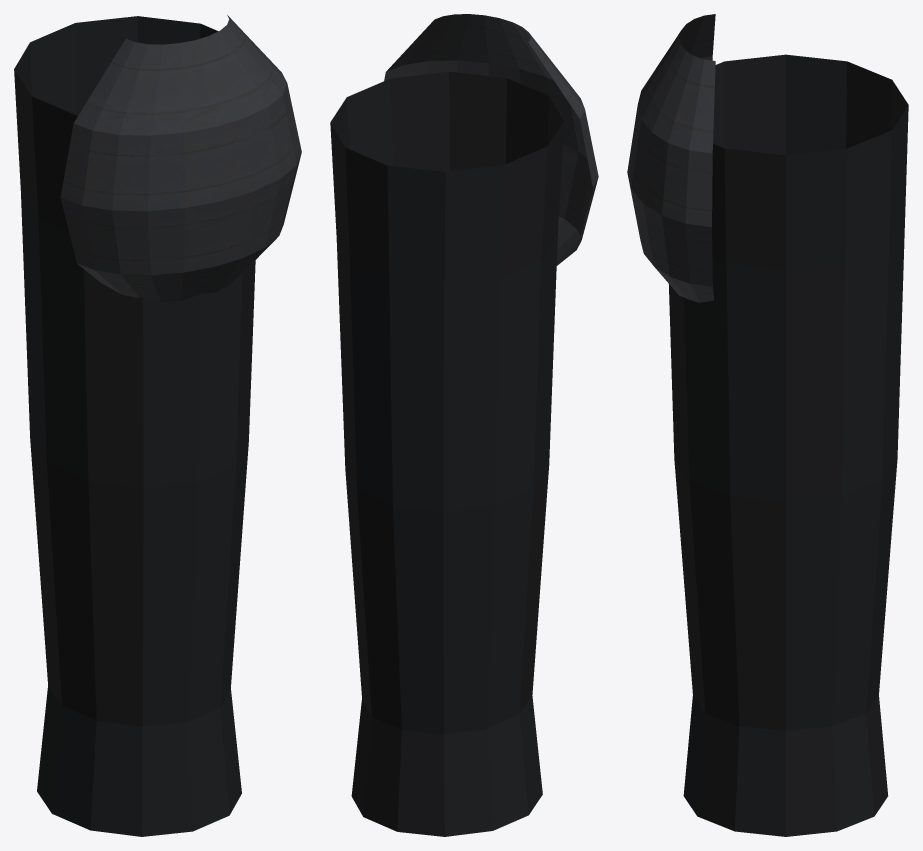
File: eq_present_3_leg.glb
3 views of the same model, side by side, from view 1: azimuth 30°, elevation 25°; view 2: azimuth 150°, elevation 25°; view 3: azimuth 270°, elevation 25° (orthographic). The views are drawn at different scales.
Visible parts, largest first — view 1: eq_present_3_leg; view 2: eq_present_3_leg; view 3: eq_present_3_leg.
Part boxes in pixels (x1,y1,x2,y2): eq_present_3_leg: (14, 15, 301, 836); eq_present_3_leg: (330, 14, 598, 836); eq_present_3_leg: (627, 14, 908, 836).
Size of the model in its own units: 0.1508 by 0.486 by 0.1634.
2 materials, 2 textured.
